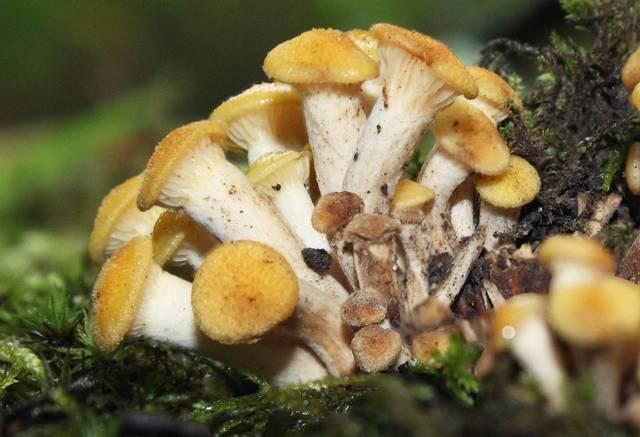Edible Mushroom: (86, 21, 541, 387)
